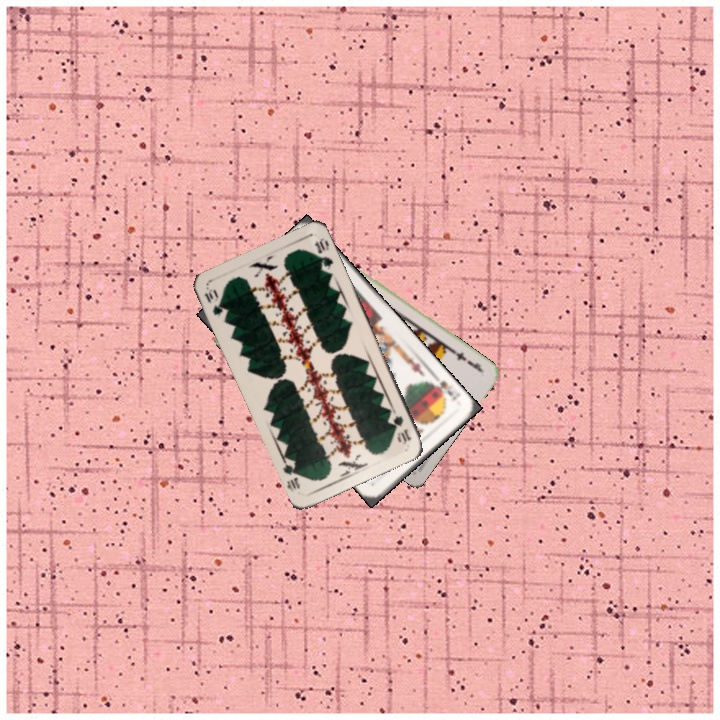E7: (448, 346, 485, 374)
G10: (386, 407, 415, 447), (200, 285, 227, 318)
SK: (427, 377, 463, 403)
